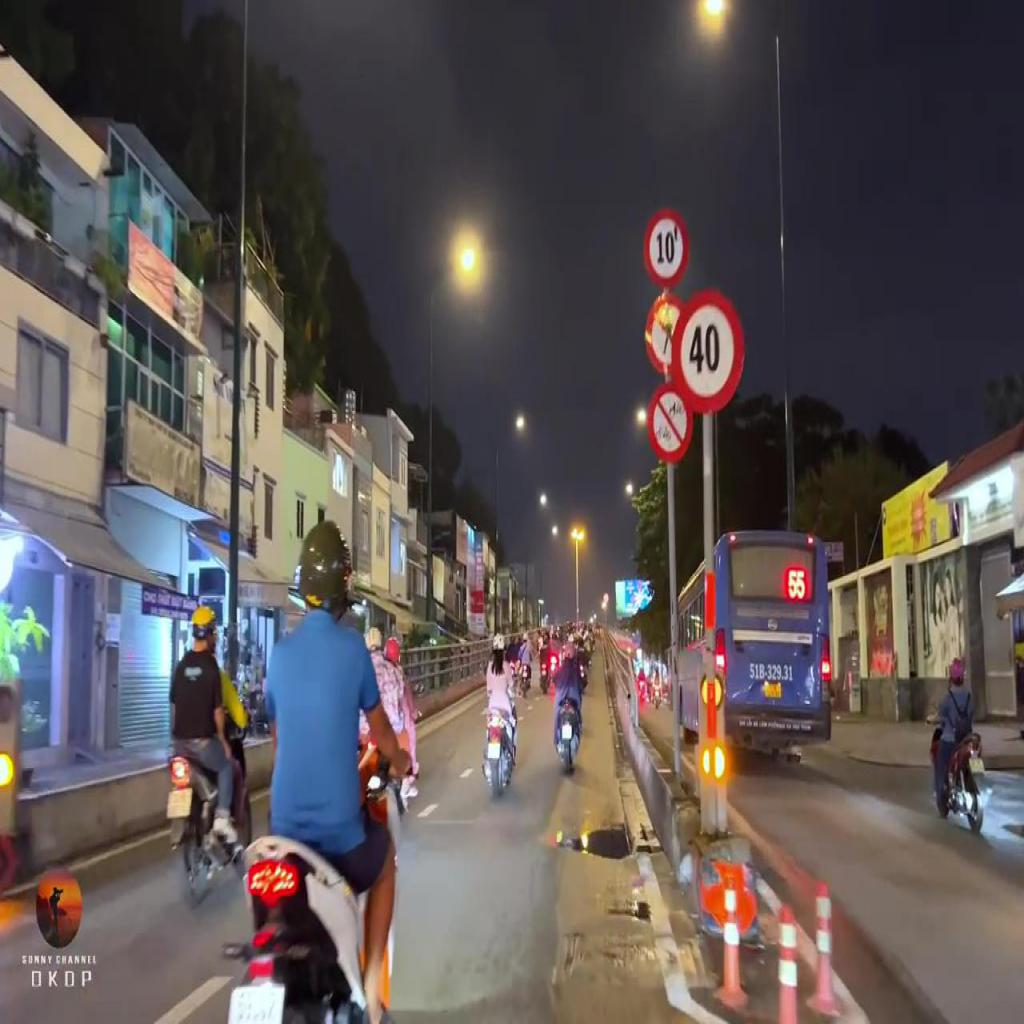khac: (643, 208, 689, 292), (648, 381, 694, 461), (644, 292, 683, 374)
toc_do_toi_da_40: (672, 292, 744, 412)
